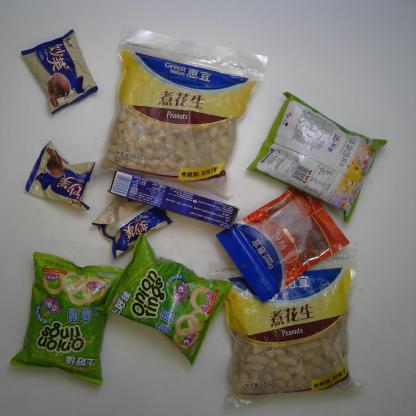Dessert: (20, 30, 100, 115), (91, 194, 173, 260), (24, 141, 97, 212)
Dried Food: (88, 26, 270, 202), (206, 246, 370, 411)
Dried Fruit: (214, 188, 352, 304)
Personal Hygiene: (106, 168, 241, 230)
Puffed Food: (244, 90, 390, 224), (95, 232, 235, 368), (8, 250, 125, 388)
